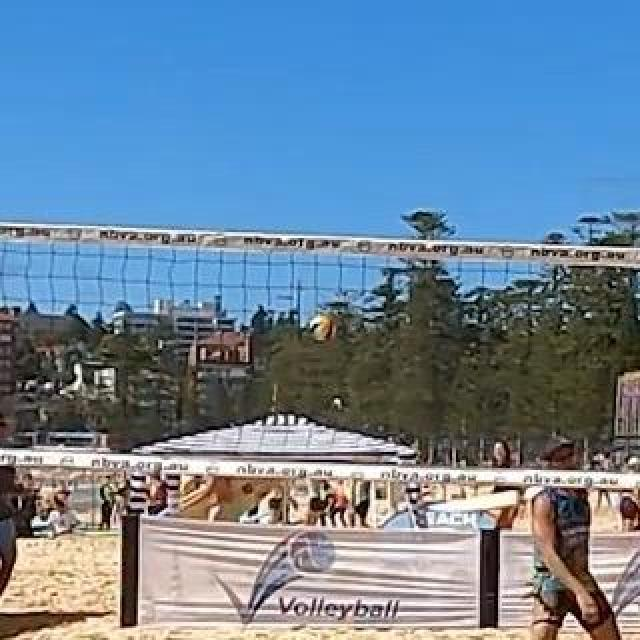volleyball: (311, 316, 335, 340)
